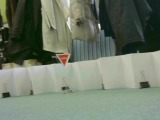stop: (55, 52, 72, 68)
